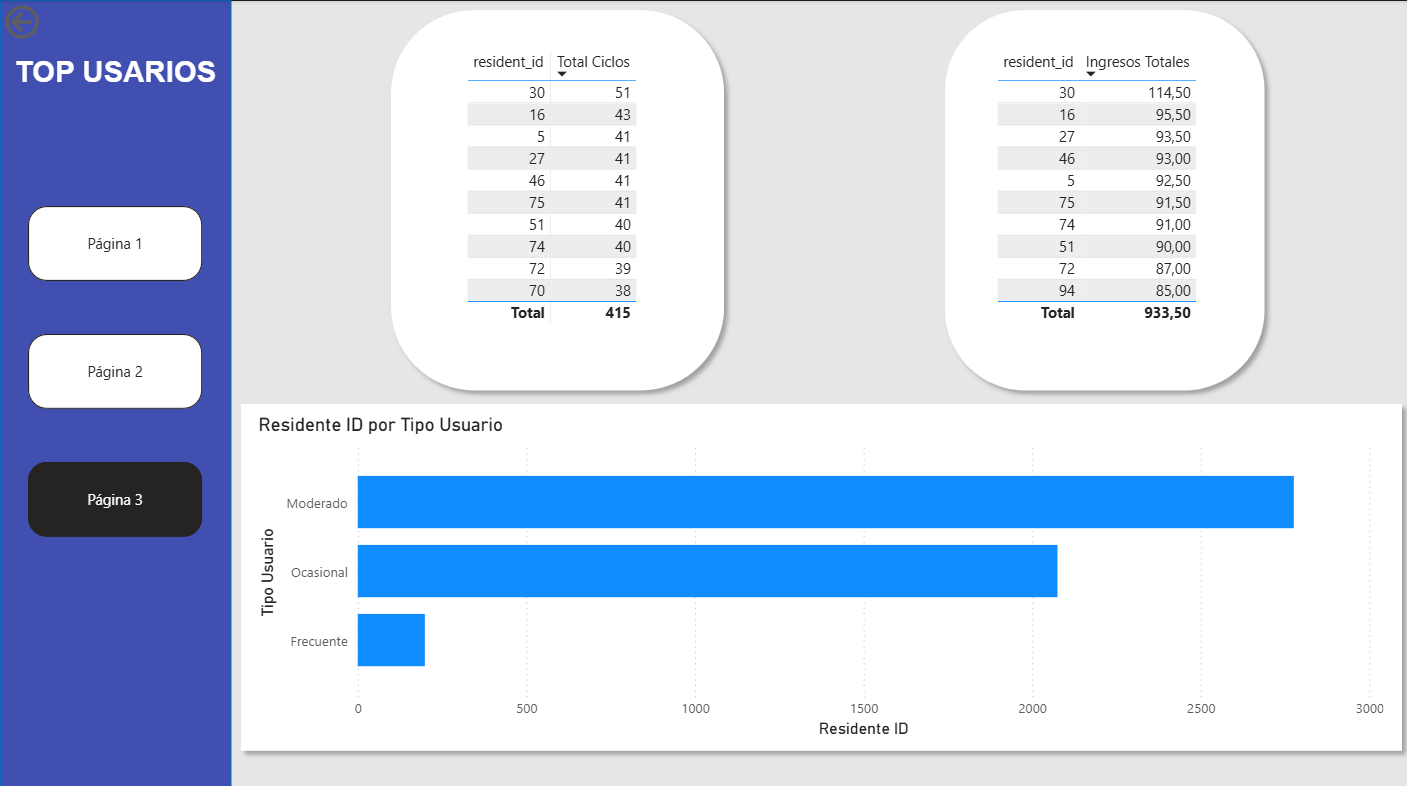

The dashboard page shown, as its layout file describes it:
{"tool":"powerbi","page":{"name":"Página 3","canvas":[1280,720],"ordinal":2},"visuals":[{"type":"shape","box":[0,0,1280.5,720],"z":0},{"type":"shape","box":[209.7,356.9,1070.8,332.4],"z":1000},{"type":"shape","box":[847.6,0,307.9,363.1],"z":2000},{"type":"shape","box":[345.9,0,320.1,363.1],"z":3000},{"type":"shape","box":[0,0,209.7,720],"z":4000},{"type":"tableEx","fields":{"Values":["public residents.resident_id","public usage_cycles.Total Ciclos"]},"box":[418.3,40.5,176.6,258.8],"z":5000},{"type":"tableEx","fields":{"Values":["public residents.resident_id","public usage_cycles.Ingresos Totales"]},"box":[899.1,40.5,204.8,262.5],"z":6000},{"type":"actionButton","box":[0,0,100,40],"z":7000},{"type":"barChart","fields":{"Y":["Sum(Usuarios.resident_id)"],"Category":["Usuarios.Tipo Usuario"]},"box":[229.4,374.1,1030.3,299.3],"z":8000},{"type":"pageNavigator","box":[25.8,186.4,158.2,300.5],"z":9000},{"type":"textbox","box":[0,45.4,209.7,49.1],"z":10000}]}

Visuals, with their boxes on the page's 1280x720 design canvas (x1, y1, x2, y2). These are canvas units, not pixel positions in the 1407x786 screenshot, which may show the page scaled, cropped or inside an application window:
shape: l=0, t=0, r=1280, b=720
shape: l=210, t=357, r=1280, b=689
shape: l=848, t=0, r=1156, b=363
shape: l=346, t=0, r=666, b=363
shape: l=0, t=0, r=210, b=720
tableEx - public residents.resident_id x public usage_cycles.Total Ciclos: l=418, t=40, r=595, b=299
tableEx - public residents.resident_id x public usage_cycles.Ingresos Totales: l=899, t=40, r=1104, b=303
actionButton: l=0, t=0, r=100, b=40
barChart - Sum(Usuarios.resident_id) x Usuarios.Tipo Usuario: l=229, t=374, r=1260, b=673
pageNavigator: l=26, t=186, r=184, b=487
textbox: l=0, t=45, r=210, b=94
